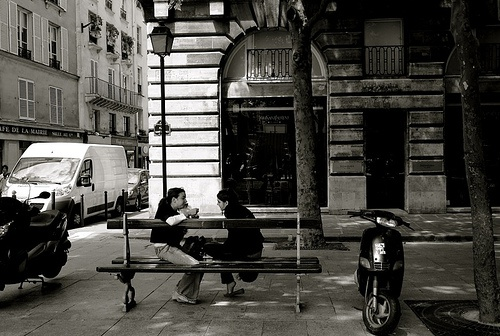non-vehicle: (346, 209, 415, 335), (0, 192, 70, 292)
